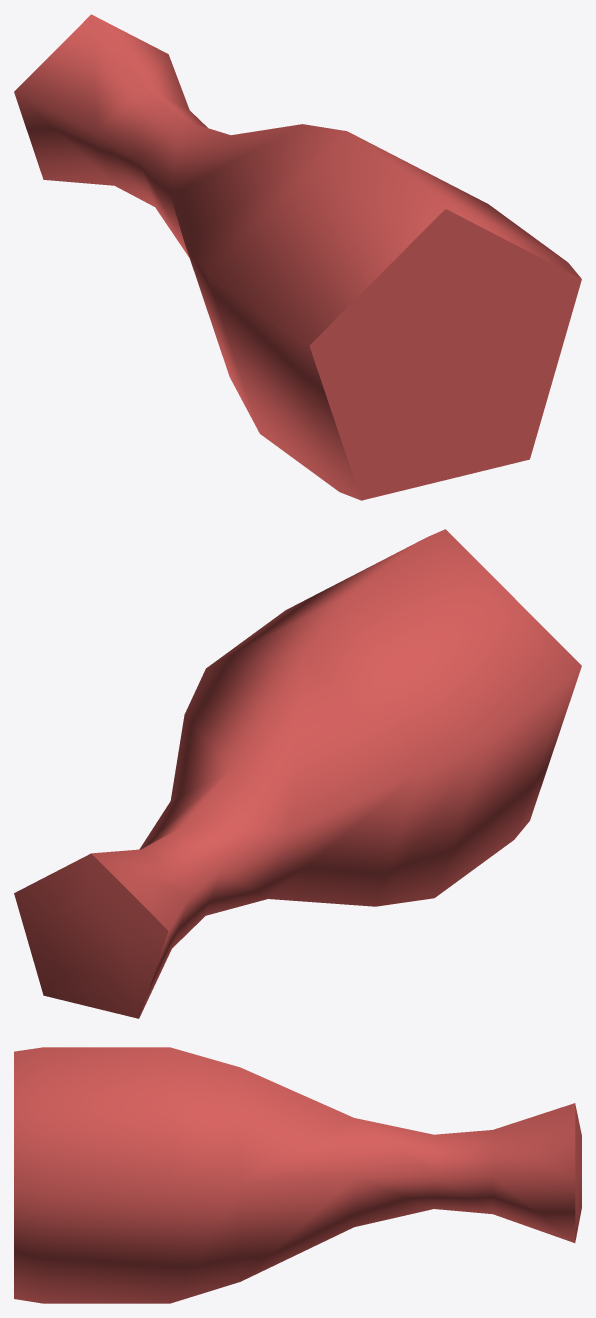
Rendered from meat_01.fbx.
3 renders of one model, top to bottom at view 1: azimuth 30°, elevation 25°; view 2: azimuth 150°, elevation 25°; view 3: azimuth 270°, elevation 25°, orthographic. The views are drawn at different scales.
Parts seen in each view (by area): view 1: Cylinder; view 2: Cylinder; view 3: Cylinder.
Boxes of the visible parts, x1=… form: Cylinder: x1=14, y1=14, x2=581, y2=500; Cylinder: x1=14, y1=529, x2=581, y2=1018; Cylinder: x1=14, y1=1047, x2=581, y2=1303.
Size of the model in its own units: 190 by 181 by 418.
